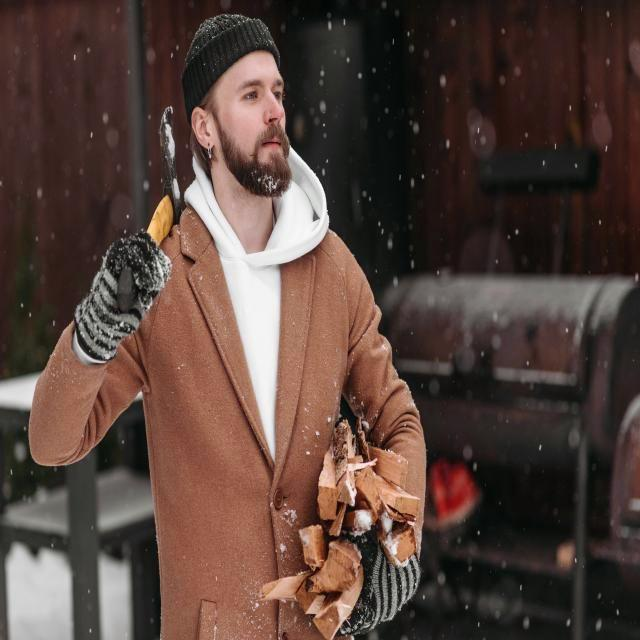Axe: (146, 106, 182, 244)
